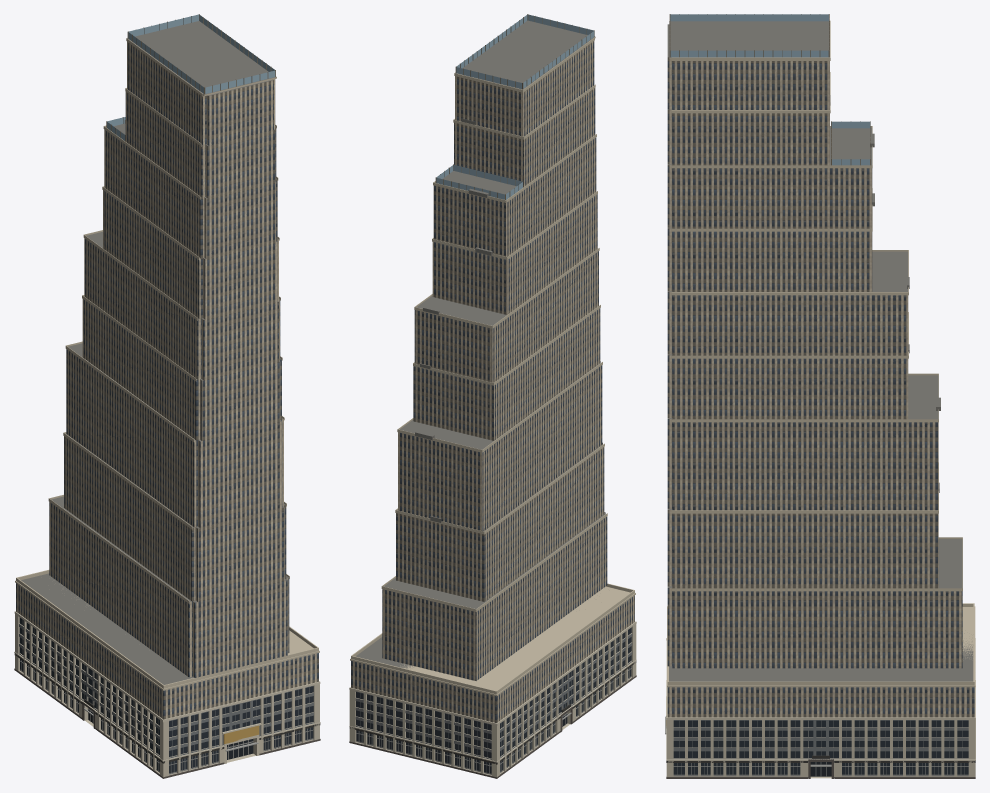
The model's file is rockefeller_30.glb.
3 renders of one model, left to right at view 1: azimuth 30°, elevation 25°; view 2: azimuth 150°, elevation 25°; view 3: azimuth 270°, elevation 25°, orthographic. The views are drawn at different scales.
Visible parts, largest first — view 1: rockefeller_30; view 2: rockefeller_30; view 3: rockefeller_30.
Part boxes in pixels (x1,y1,x2,y2): rockefeller_30: (14,14,320,778); rockefeller_30: (349,14,636,778); rockefeller_30: (665,14,975,778).
Size of the model in its own units: 62.9 by 259 by 103.
Materials: 2 (2 with a texture image).
